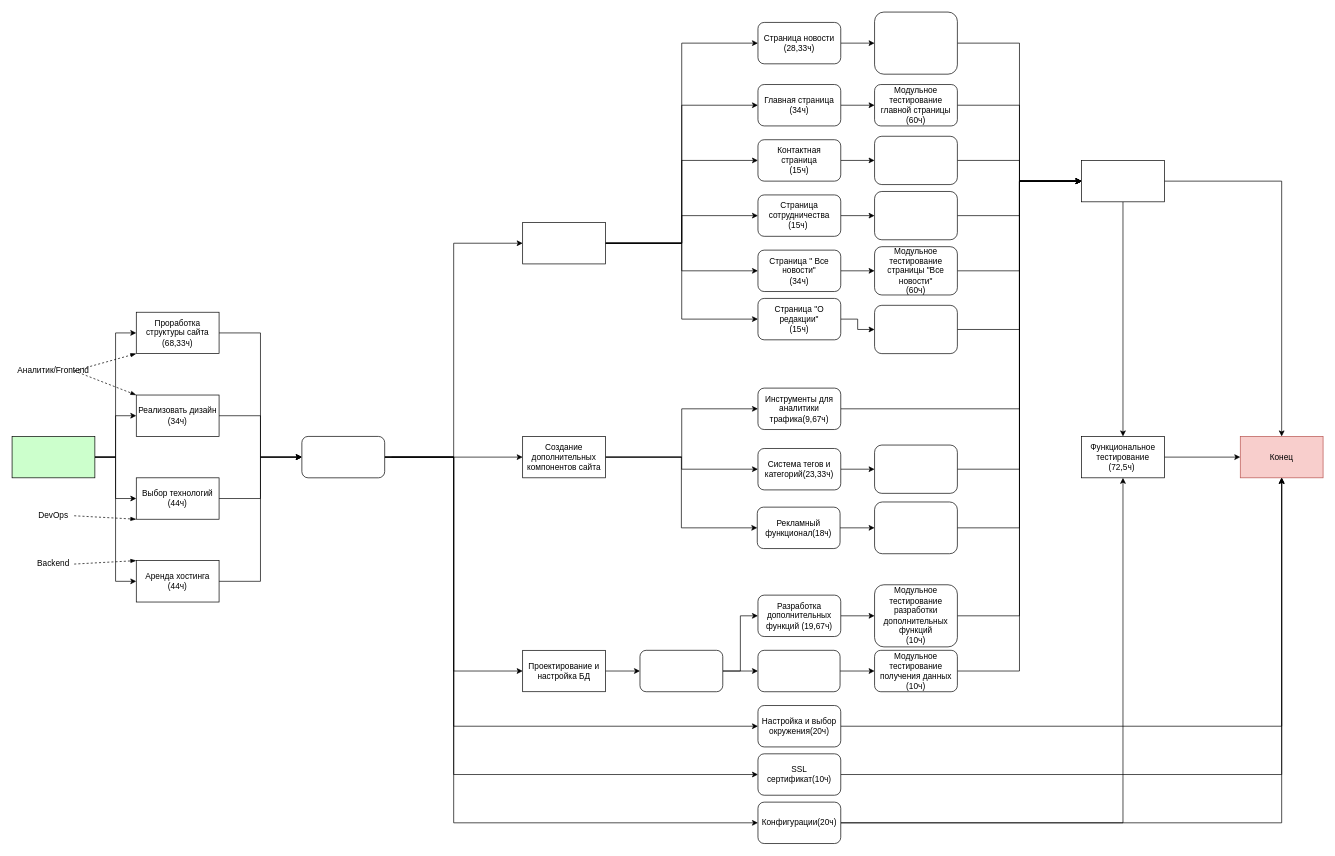
The diagram is 1335 pixels wide and 856 high, and some of its shapes have lost their labels. Here are the shapes that lost their labels. From the top down, the centre of each, then its label:
(915,42): Модульное тестирование отдельной новостной страницы (60ч)
(915,160): Модульное тестирование контактной страницы (60ч)
(1122,181): Интеграционное тестирование (30ч)
(915,215): Модульное тестирование страницы сотрудничества (60ч)
(563,243): Создание компонентов сайта
(915,329): Модульное тестирование страницы "О редакции" (60ч)
(53,457): Начало
(343,457): Подготовительная основа для разработки
(915,468): Модульное тестирование системы тегов и категорий (60ч)
(915,527): Модульное тестирование рекламного функционала (60ч)
(681,671): Проектирование API (23,33ч)
(798,671): Получение данных для новостных страниц(19,67ч)
